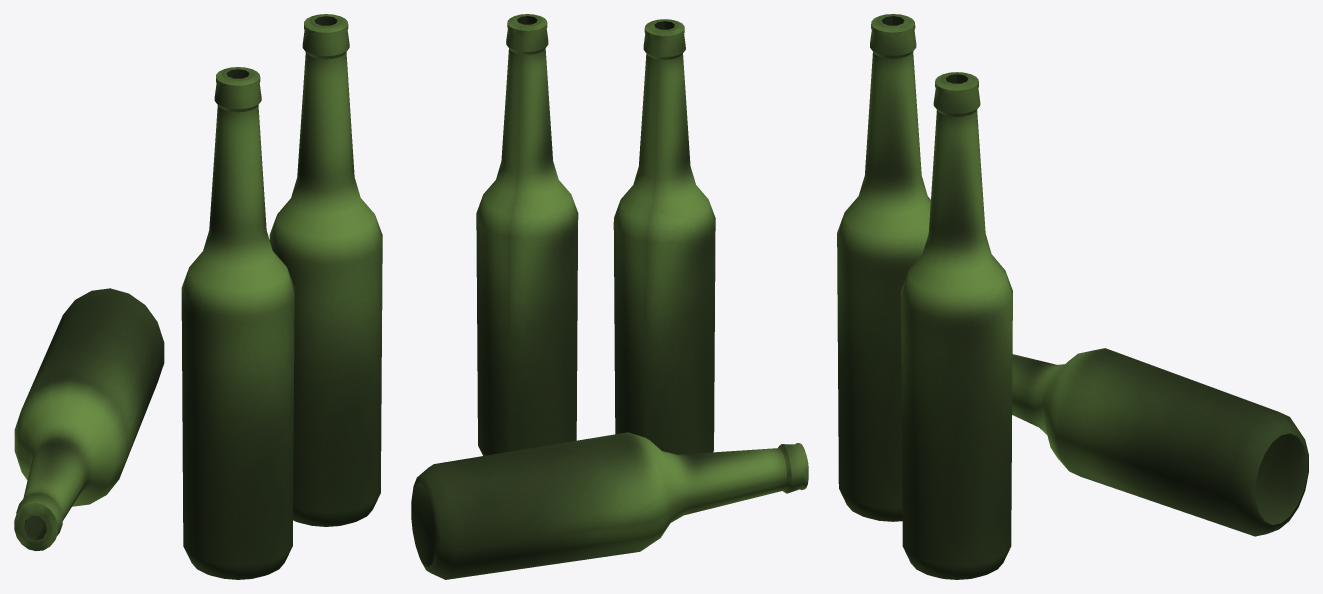
Rendered from soju10.obj.
The picture shows the model from 3 angles, left to right: view 1: azimuth 30°, elevation 25°; view 2: azimuth 150°, elevation 25°; view 3: azimuth 270°, elevation 25°; orthographic projection. The views are drawn at different scales.
Size of the model in its own units: 3.2 by 4.15 by 3.65.
